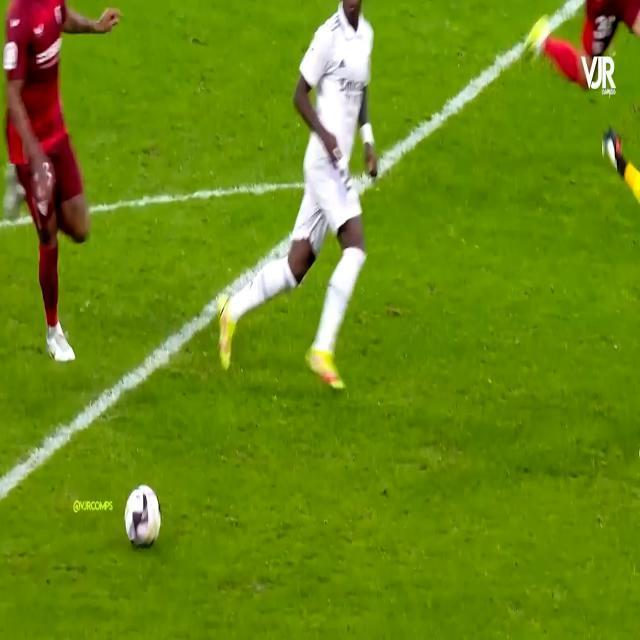ball: (123, 456, 178, 544)
player: (209, 2, 406, 401), (10, 0, 100, 363), (507, 0, 640, 234)
